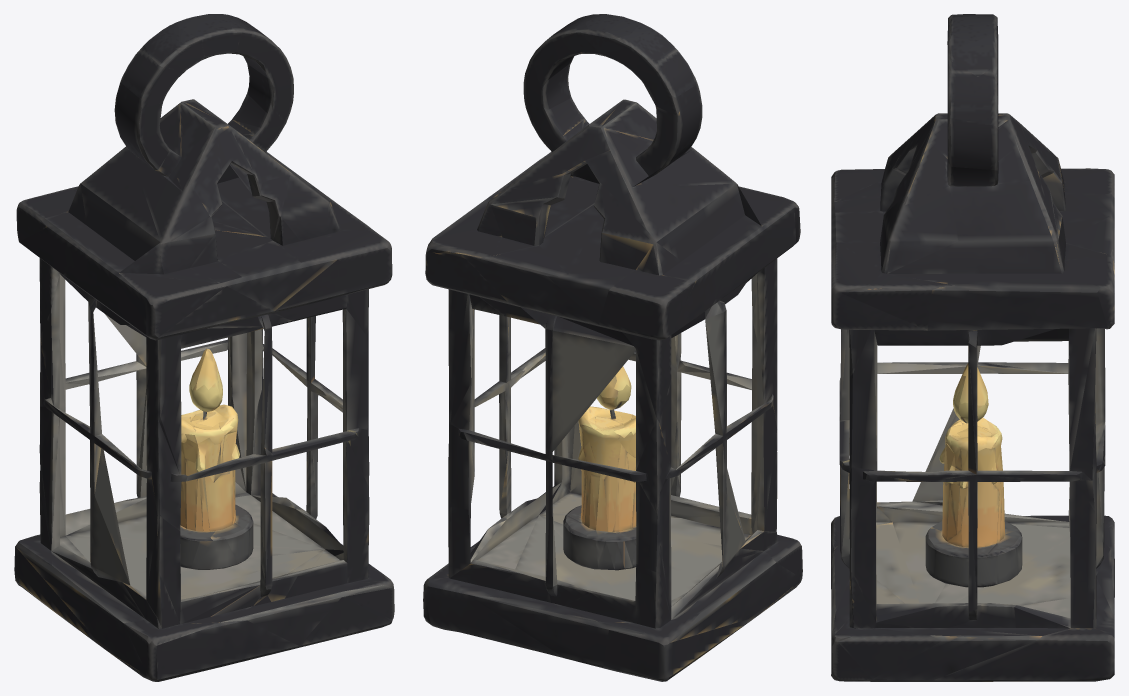
Rendered from lantern.glb.
3 views of the same model, side by side, from view 1: azimuth 30°, elevation 25°; view 2: azimuth 150°, elevation 25°; view 3: azimuth 270°, elevation 25° (orthographic). The views are drawn at different scales.
Bounding box in the file's own units: 0.8394 × 1.9 × 0.8184.
Materials: 1 (1 with a texture image).
